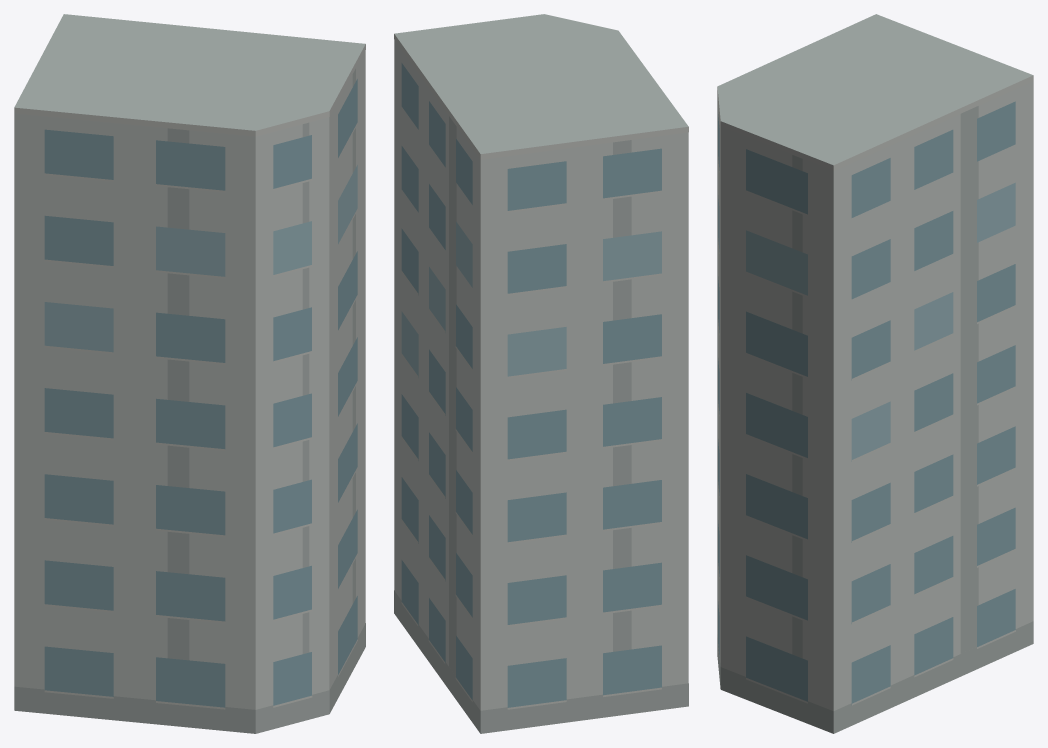
The model's file is survey-upis-32983467.glb.
3 views of the same model, side by side, from view 1: azimuth 30°, elevation 25°; view 2: azimuth 150°, elevation 25°; view 3: azimuth 270°, elevation 25° (orthographic). The views are drawn at different scales.
Visible parts, largest first — view 1: survey-upis-32983467.tmp; view 2: survey-upis-32983467.tmp; view 3: survey-upis-32983467.tmp.
Boxes of the visible parts, bbox=[...] form: survey-upis-32983467.tmp: bbox=[14, 14, 365, 733]; survey-upis-32983467.tmp: bbox=[394, 14, 688, 733]; survey-upis-32983467.tmp: bbox=[717, 14, 1033, 733].
Bounding box in the file's own units: 14.08 × 24.65 × 12.43.
